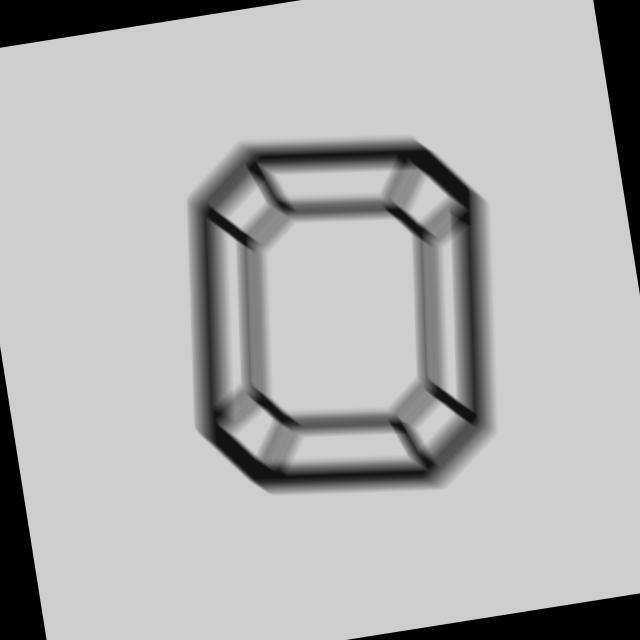emerald: (147, 95, 542, 535)
